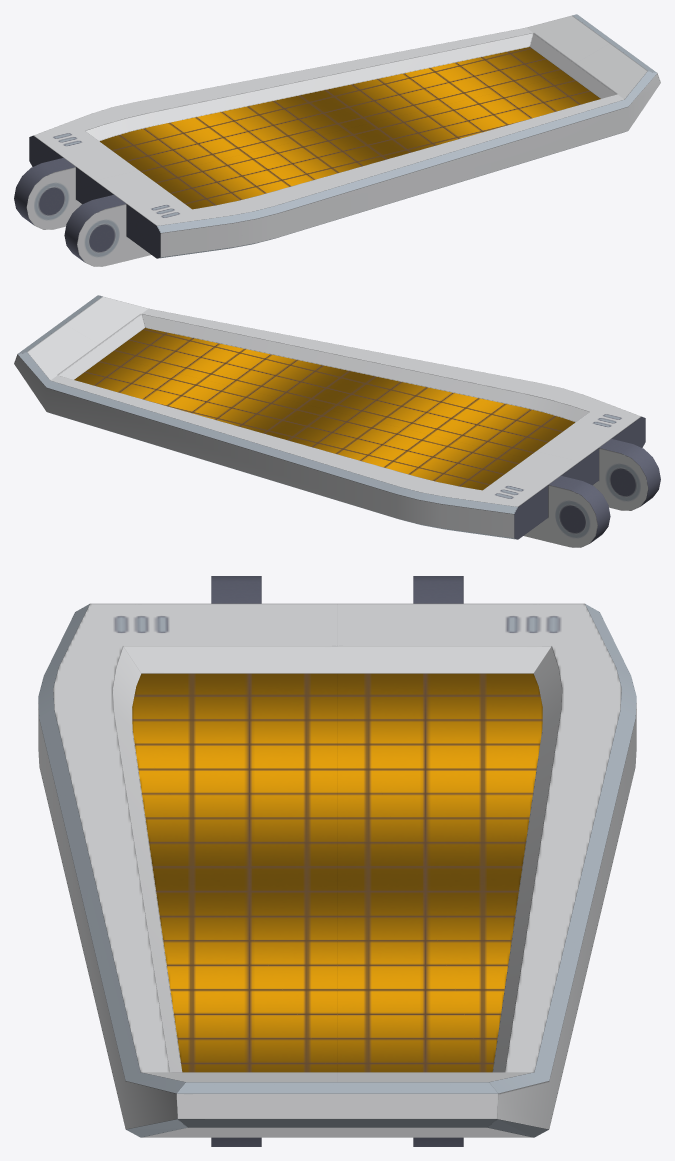
The model's file is Radar_Part_01.FBX.
3 views of the same model, one above another, from view 1: azimuth 30°, elevation 25°; view 2: azimuth 150°, elevation 25°; view 3: azimuth 270°, elevation 25° (orthographic). The views are drawn at different scales.
Parts seen in each view (by area): view 1: Radar_Part_01; view 2: Radar_Part_01; view 3: Radar_Part_01.
Boxes of the visible parts, bbox=[...] form: Radar_Part_01: bbox=[14, 14, 660, 266]; Radar_Part_01: bbox=[14, 295, 660, 547]; Radar_Part_01: bbox=[38, 576, 636, 1146].
Bounding box in the file's own units: 13.17 × 1.51 × 5.93.
